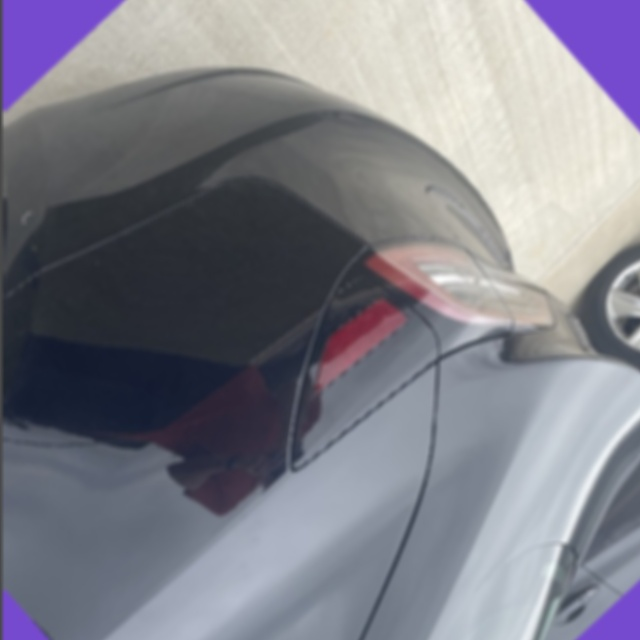reflector: (293, 286, 411, 402)
